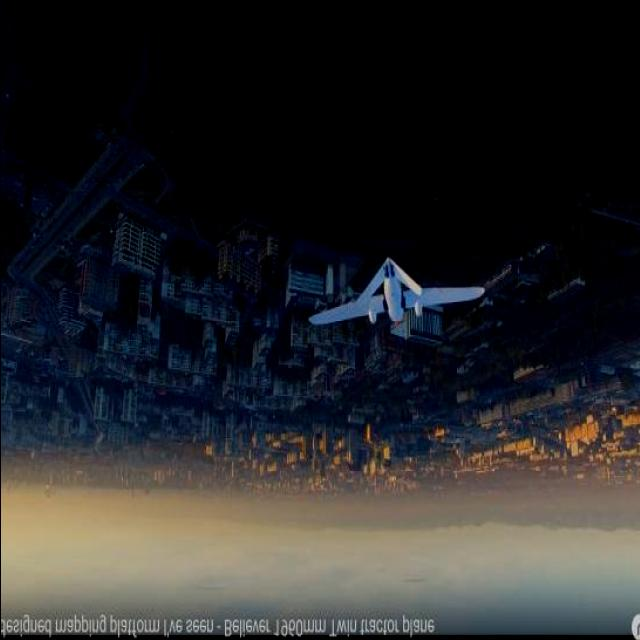plane: (307, 254, 487, 344)
